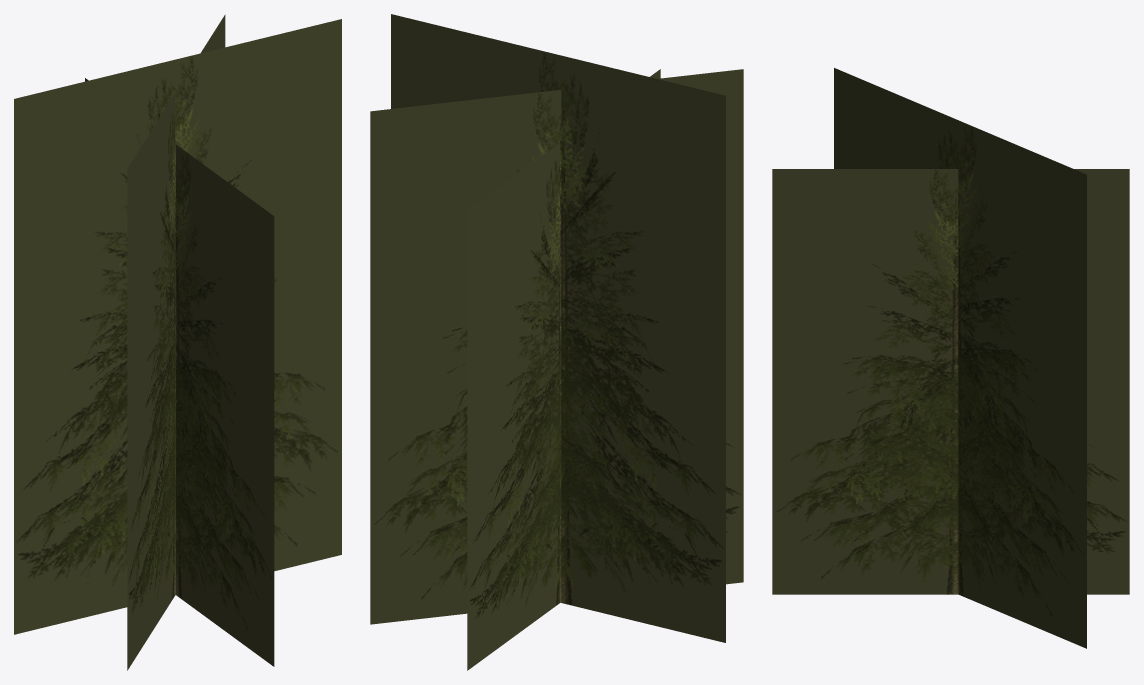
The model's file is Tree_Mobile.fbx.
3 views of the same model, side by side, from view 1: azimuth 30°, elevation 25°; view 2: azimuth 150°, elevation 25°; view 3: azimuth 270°, elevation 25° (orthographic). The views are drawn at different scales.
Visible parts, largest first — view 1: Tree_Plane_02, Tree_Plane_01, Tree_Plane_05, Tree_Plane_03, Tree_Plane_04, Tree_Plane_06; view 2: Tree_Plane_02, Tree_Plane_03, Tree_Plane_01, Tree_Plane_05, Tree_Plane_06, Tree_Plane_04; view 3: Tree_Plane_01, Tree_Plane_03, Tree_Plane_06, Tree_Plane_04.
Boxes of the visible parts, <box> form: Tree_Plane_02: <box>14,19,341,634</box>; Tree_Plane_01: <box>85,78,274,666</box>; Tree_Plane_05: <box>14,20,341,629</box>; Tree_Plane_03: <box>127,14,225,670</box>; Tree_Plane_04: <box>86,79,274,661</box>; Tree_Plane_06: <box>127,16,224,668</box>; Tree_Plane_02: <box>391,14,725,642</box>; Tree_Plane_03: <box>370,69,743,624</box>; Tree_Plane_01: <box>467,69,660,670</box>; Tree_Plane_05: <box>391,14,725,639</box>; Tree_Plane_06: <box>370,70,743,623</box>; Tree_Plane_04: <box>467,69,660,667</box>; Tree_Plane_01: <box>772,169,1129,594</box>; Tree_Plane_03: <box>834,68,1086,648</box>; Tree_Plane_06: <box>834,68,1086,647</box>; Tree_Plane_04: <box>772,169,1129,594</box>.
Bounding box in the file's own units: 8.51 × 13.29 × 8.51.
